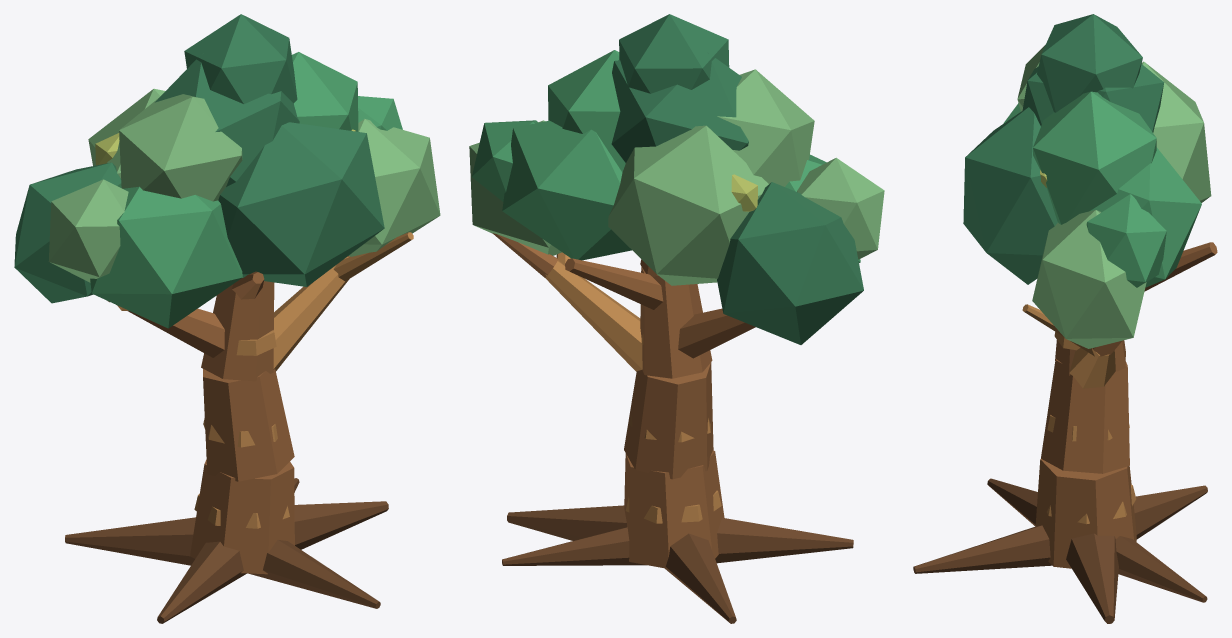
File: mire_broadleaf_tree.glb
3 renders of one model, left to right at view 1: azimuth 30°, elevation 25°; view 2: azimuth 150°, elevation 25°; view 3: azimuth 270°, elevation 25°, orthographic.
Visible parts, largest first — view 1: mire_broadleaf_tree; view 2: mire_broadleaf_tree; view 3: mire_broadleaf_tree.
Part boxes in pixels (x1,y1,x2,y2): mire_broadleaf_tree: (14,14,440,623); mire_broadleaf_tree: (469,14,884,623); mire_broadleaf_tree: (913,14,1217,623).
Bounding box in the file's own units: 4.4 × 5.72 × 2.88.
